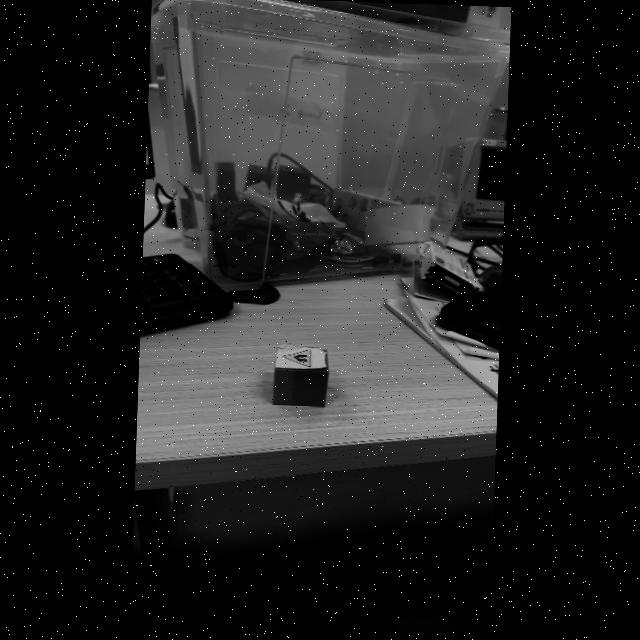Earthquake: (283, 349, 311, 366)
